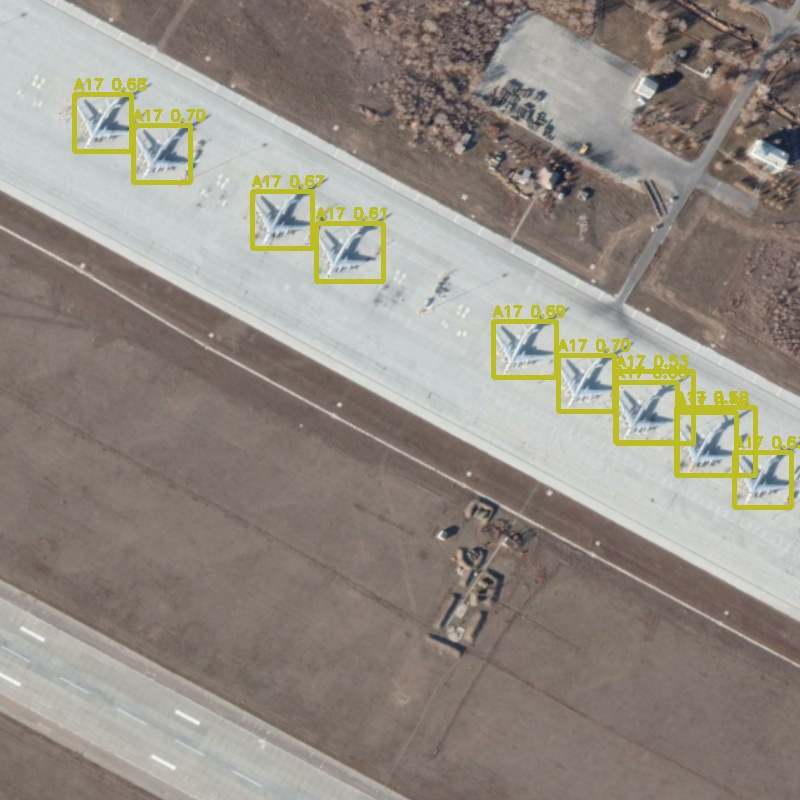A17: (616, 371, 693, 443), (676, 407, 755, 475), (316, 223, 383, 281), (615, 382, 677, 442), (677, 412, 736, 475), (493, 321, 556, 377), (252, 191, 312, 248), (133, 125, 190, 182), (74, 94, 131, 151), (558, 355, 614, 411), (734, 452, 791, 507)
